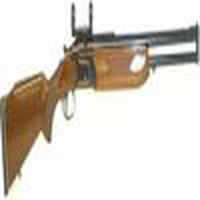gun: (1, 31, 200, 163)
